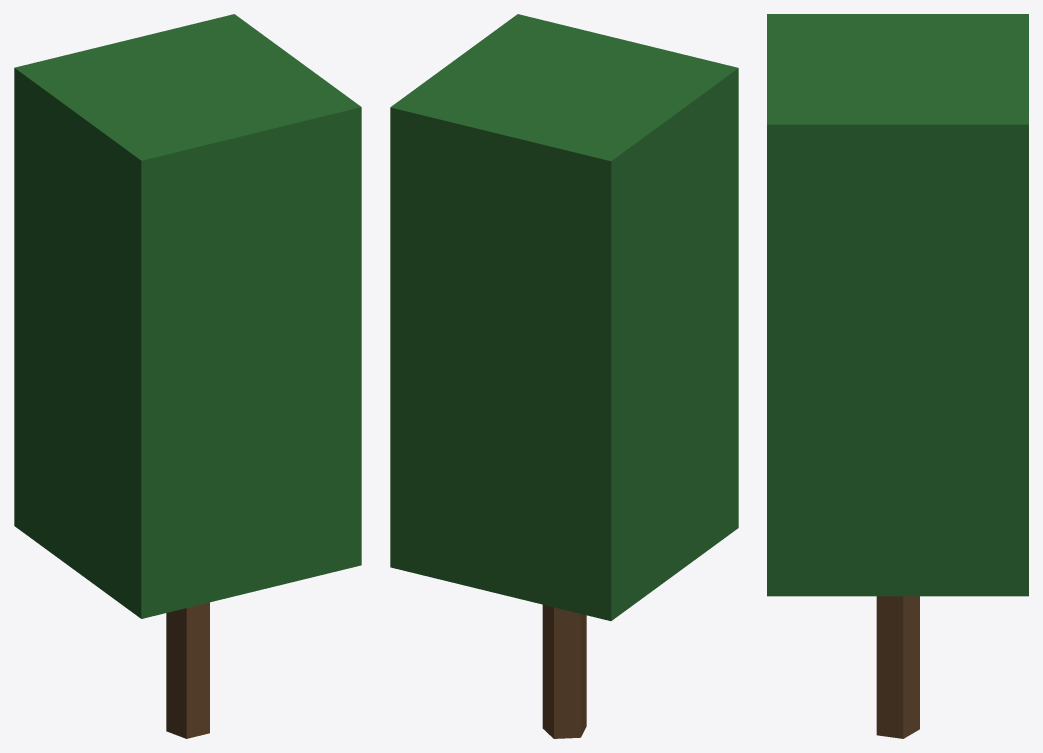
File: nature_tree-square.fbx
The picture shows the model from 3 angles, left to right: view 1: azimuth 30°, elevation 25°; view 2: azimuth 150°, elevation 25°; view 3: azimuth 270°, elevation 25°; orthographic projection. The views are drawn at different scales.
Visible parts, largest first — view 1: nature_tree_square; view 2: nature_tree_square; view 3: nature_tree_square.
Part boxes in pixels (x1,y1,x2,y2): nature_tree_square: (14, 14, 361, 738); nature_tree_square: (390, 14, 738, 738); nature_tree_square: (767, 14, 1028, 738).
Size of the model in its own units: 71.87 by 200 by 71.87.
